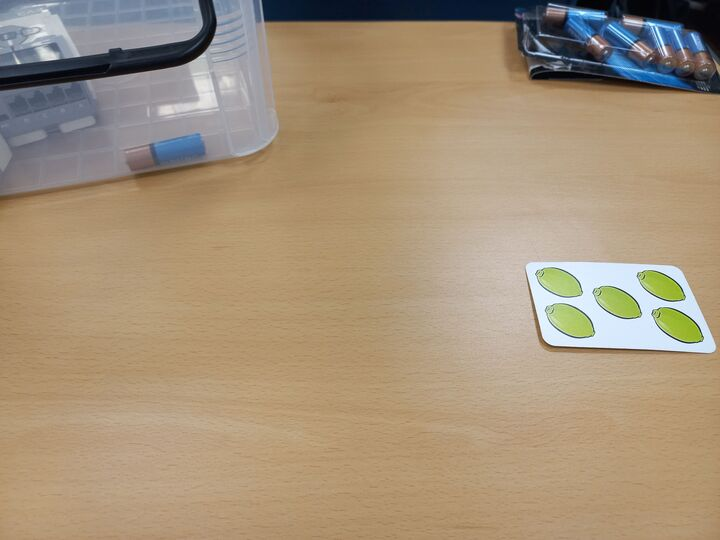lime5: (522, 257, 716, 357)
